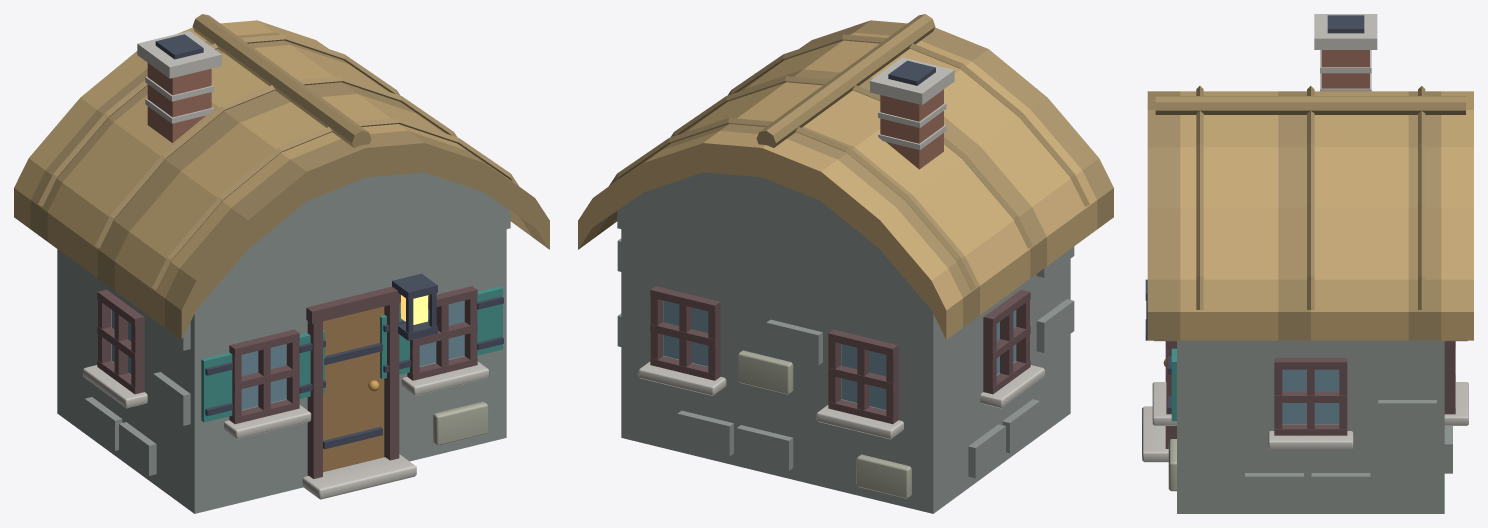
Rendered from cottage_thatch.glb.
3 renders of one model, left to right at view 1: azimuth 30°, elevation 25°; view 2: azimuth 150°, elevation 25°; view 3: azimuth 270°, elevation 25°, orthographic. The views are drawn at different scales.
Parts seen in each view (by area): view 1: cottage_thatch_rounded_gable, cottage_thatch_thatch_bundle, cottage_thatch_oak_door, cottage_thatch_thatch_bundle.003, cottage_thatch_thatch_bundle.002, cottage_thatch_thatch_bundle.004, cottage_thatch_thatch_bundle.009, cottage_thatch_thatch_bundle.001, cottage_thatch_thatch_bundle.006, cottage_thatch_thatch_bundle.007, cottage_thatch_thatched_ridge, cottage_thatch_low_wall (+61 smaller); view 2: cottage_thatch_rounded_gable.001, cottage_thatch_thatch_bundle.009, cottage_thatch_low_wall.036, cottage_thatch_low_wall.038, cottage_thatch_thatch_bundle, cottage_thatch_thatch_bundle.007, cottage_thatch_thatch_bundle.002, cottage_thatch_thatch_bundle.006, cottage_thatch_thatch_bundle.003, cottage_thatch_thatch_bundle.008, cottage_thatch_thatch_bundle.005, cottage_thatch_thatch_bundle.001 (+55 smaller); view 3: cottage_thatch_thatch_bundle, cottage_thatch_thatch_bundle.003, cottage_thatch_thatch_bundle.009, cottage_thatch_low_wall.028, cottage_thatch_thatch_bundle.002, cottage_thatch_thatch_bundle.006, cottage_thatch_thatch_bundle.007, cottage_thatch_thatch_bundle.005, cottage_thatch_thatch_bundle.004, cottage_thatch_low_wall.023, cottage_thatch_thatch_bundle.008, cottage_thatch_thatch_bundle.001 (+36 smaller).
Part boxes in pixels (bbox=[...]): cottage_thatch_rounded_gable: bbox=[202, 172, 510, 303]; cottage_thatch_thatch_bundle: bbox=[165, 130, 549, 339]; cottage_thatch_oak_door: bbox=[323, 306, 384, 472]; cottage_thatch_thatch_bundle.003: bbox=[114, 94, 444, 302]; cottage_thatch_thatch_bundle.002: bbox=[131, 106, 515, 314]; cottage_thatch_thatch_bundle.004: bbox=[97, 82, 446, 290]; cottage_thatch_thatch_bundle.009: bbox=[14, 20, 328, 228]; cottage_thatch_thatch_bundle.001: bbox=[148, 124, 532, 327]; cottage_thatch_thatch_bundle.006: bbox=[64, 57, 386, 265]; cottage_thatch_thatch_bundle.007: bbox=[47, 45, 388, 253]; cottage_thatch_thatched_ridge: bbox=[192, 14, 371, 147]; cottage_thatch_low_wall: bbox=[187, 416, 236, 513]; cottage_thatch_rounded_gable.001: bbox=[617, 172, 925, 303]; cottage_thatch_thatch_bundle.009: bbox=[578, 130, 962, 339]; cottage_thatch_low_wall.036: bbox=[713, 370, 840, 491]; cottage_thatch_low_wall.038: bbox=[713, 252, 840, 334]; cottage_thatch_thatch_bundle: bbox=[799, 20, 1113, 228]; cottage_thatch_thatch_bundle.007: bbox=[612, 106, 996, 314]; cottage_thatch_thatch_bundle.002: bbox=[739, 45, 1080, 253]; cottage_thatch_thatch_bundle.006: bbox=[683, 94, 1013, 302]; cottage_thatch_thatch_bundle.003: bbox=[741, 57, 1063, 265]; cottage_thatch_thatch_bundle.008: bbox=[595, 124, 979, 327]; cottage_thatch_thatch_bundle.005: bbox=[681, 82, 1030, 290]; cottage_thatch_thatch_bundle.001: bbox=[739, 32, 1097, 241]; cottage_thatch_thatch_bundle: bbox=[1147, 91, 1180, 340]; cottage_thatch_thatch_bundle.003: bbox=[1245, 91, 1278, 340]; cottage_thatch_thatch_bundle.009: bbox=[1441, 91, 1473, 340]; cottage_thatch_low_wall.028: bbox=[1339, 424, 1444, 513]; cottage_thatch_thatch_bundle.002: bbox=[1213, 91, 1245, 340]; cottage_thatch_thatch_bundle.006: bbox=[1343, 91, 1375, 340]; cottage_thatch_thatch_bundle.007: bbox=[1376, 91, 1408, 340]; cottage_thatch_thatch_bundle.005: bbox=[1311, 91, 1343, 340]; cottage_thatch_thatch_bundle.004: bbox=[1278, 91, 1310, 340]; cottage_thatch_low_wall.023: bbox=[1182, 424, 1282, 513]; cottage_thatch_thatch_bundle.008: bbox=[1408, 91, 1441, 340]; cottage_thatch_thatch_bundle.001: bbox=[1180, 91, 1212, 340].
Bounding box in the file's own units: 4.79 × 4.75 × 3.79.
